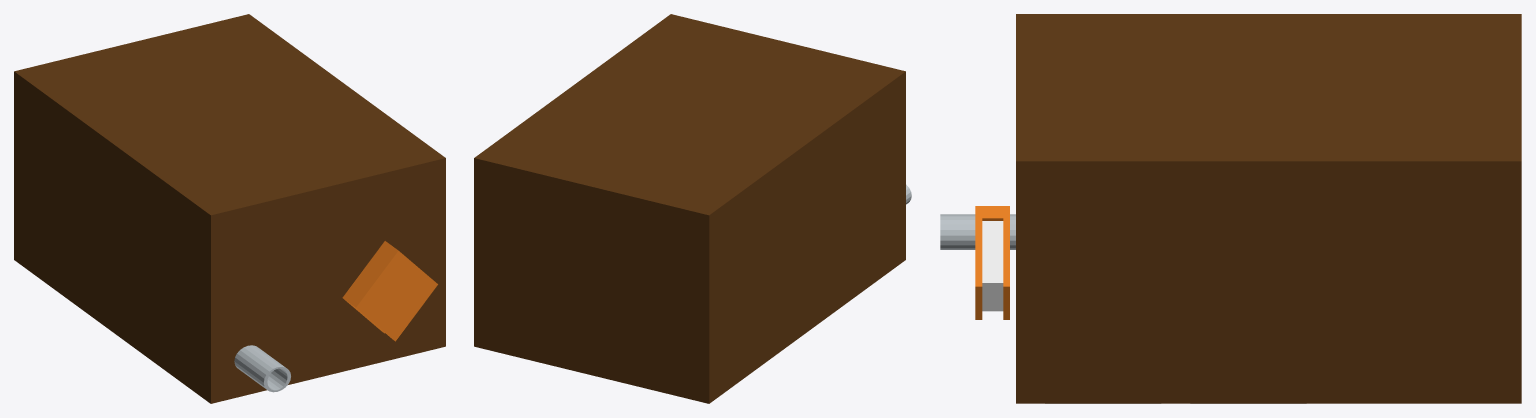
File: tinker.obj
3 views of the same model, side by side, from view 1: azimuth 30°, elevation 25°; view 2: azimuth 150°, elevation 25°; view 3: azimuth 270°, elevation 25° (orthographic). The views are drawn at different scales.
Parts seen in each view (by area): view 1: group_0_6306067, group_0_16089887, group_0_12568524; view 2: group_0_6306067; view 3: group_0_6306067, group_0_16448250, group_0_16089887, group_0_12568524.
Part boxes in pixels (left/top/right/bottom): group_0_6306067: left=14, top=14, right=445, bottom=403; group_0_16089887: left=342, top=241, right=437, bottom=341; group_0_12568524: left=234, top=345, right=290, bottom=392; group_0_6306067: left=474, top=14, right=905, bottom=403; group_0_6306067: left=1016, top=14, right=1521, bottom=403; group_0_16448250: left=982, top=221, right=1306, bottom=403; group_0_16089887: left=975, top=206, right=1009, bottom=319; group_0_12568524: left=940, top=214, right=1015, bottom=249.
Bounding box in the file's own units: 60 × 49 × 100.
